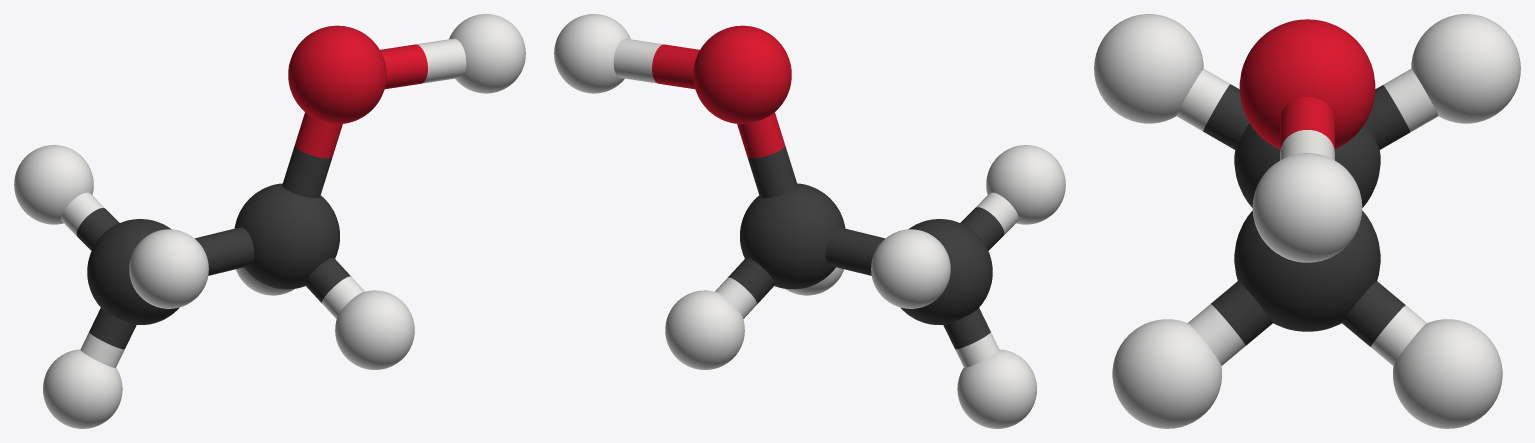
The picture shows the model from 3 angles, left to right: view 1: azimuth 30°, elevation 25°; view 2: azimuth 150°, elevation 25°; view 3: azimuth 270°, elevation 25°; orthographic projection. The views are drawn at different scales.
Visible parts, largest first — view 1: 对象009; view 2: 对象009; view 3: 对象009.
Part boxes in pixels (x1,y1,x2,y2): 对象009: (14, 14, 525, 428); 对象009: (554, 14, 1065, 428); 对象009: (1094, 14, 1520, 428).
Size of the model in its own units: 41.03 by 27.63 by 23.32.
Materials: 3 (3 with a texture image).
